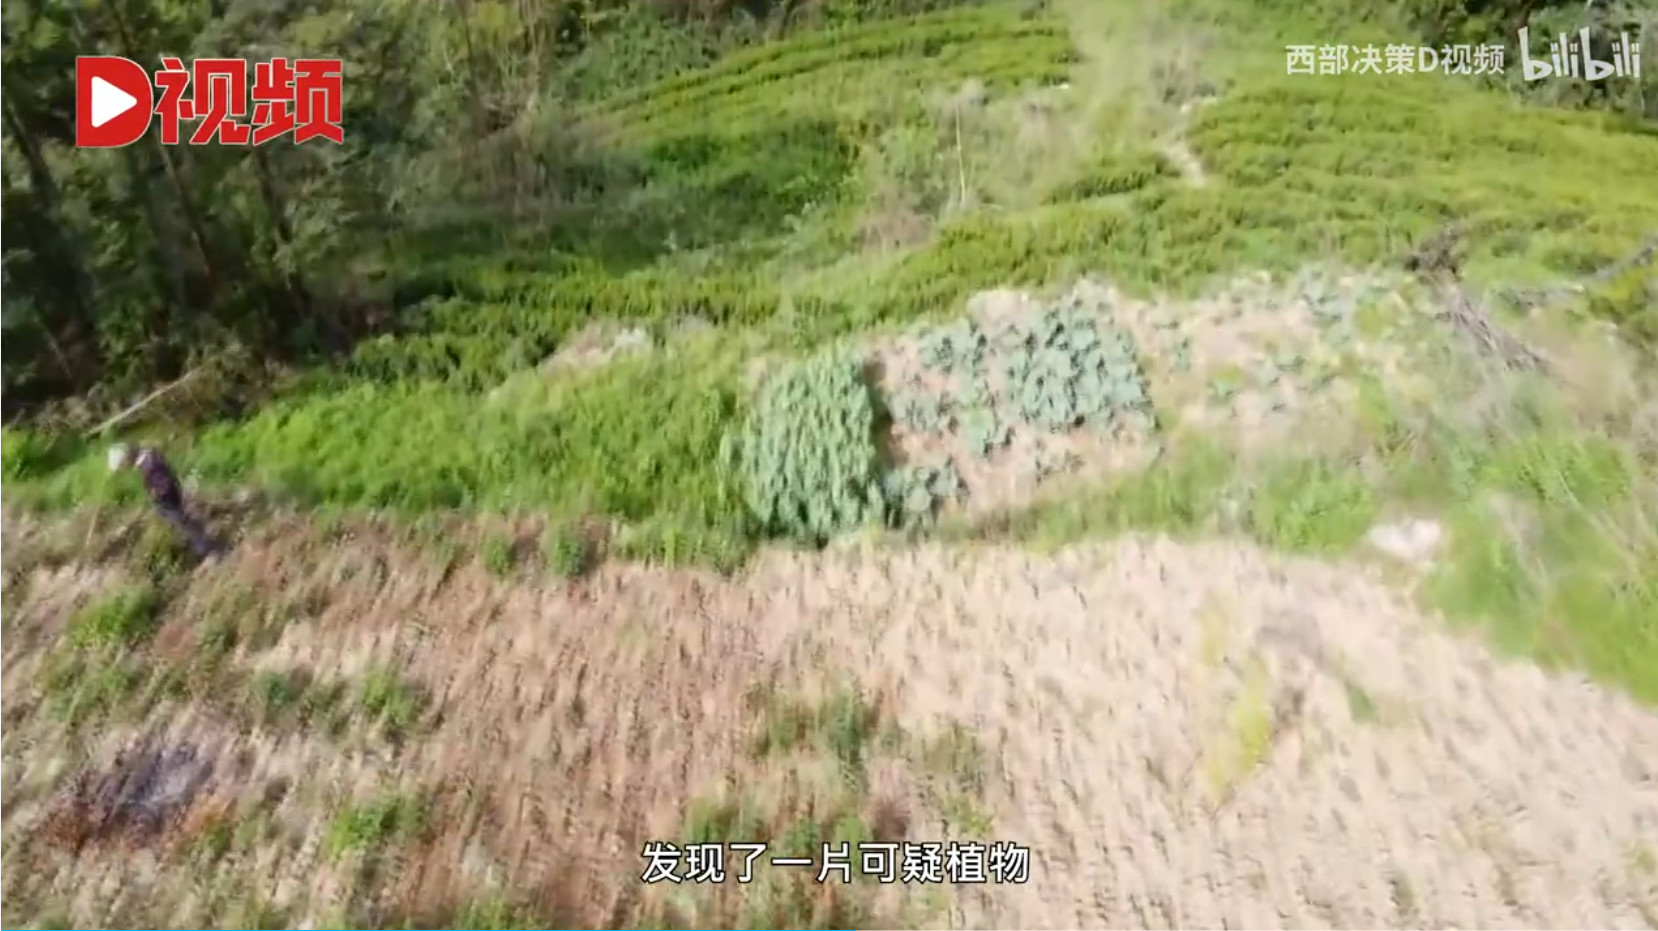Poppy: (715, 332, 963, 539), (909, 307, 1172, 463)
